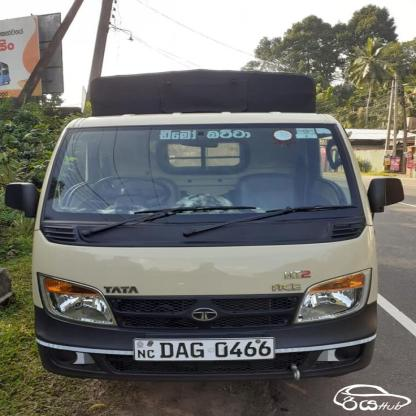Lorry front: (0, 64, 416, 389)
number plate: (132, 336, 276, 361)
